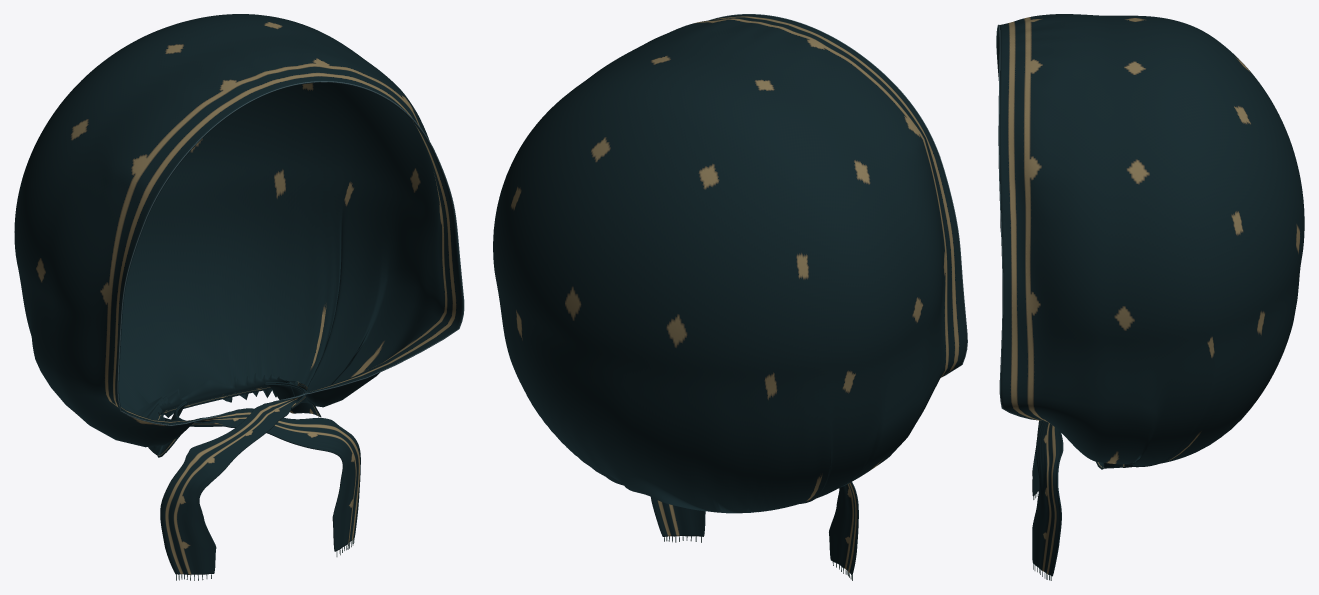
Rendered from Masculine-taper-buttonup-pashmina250-headgear.glb.
The picture shows the model from 3 angles, left to right: view 1: azimuth 30°, elevation 25°; view 2: azimuth 150°, elevation 25°; view 3: azimuth 270°, elevation 25°; orthographic projection. The views are drawn at different scales.
Visible parts, largest first — view 1: 226 headgear / Headwear / continuous woven pashmina239, 226 headgear / Headwear / face edge239; view 2: 226 headgear / Headwear / continuous woven pashmina239, 226 headgear / Headwear / face edge239; view 3: 226 headgear / Headwear / continuous woven pashmina239, 226 headgear / Headwear / face edge239.
Part boxes in pixels (<box>): 226 headgear / Headwear / continuous woven pashmina239: <box>14,14,463,574</box>; 226 headgear / Headwear / face edge239: <box>117,81,464,425</box>; 226 headgear / Headwear / continuous woven pashmina239: <box>493,14,966,574</box>; 226 headgear / Headwear / face edge239: <box>709,14,967,376</box>; 226 headgear / Headwear / continuous woven pashmina239: <box>997,14,1304,576</box>; 226 headgear / Headwear / face edge239: <box>996,24,1036,420</box>.
Size of the model in its own units: 1.07 by 1.38 by 0.7639.
3 materials, 1 textured.
